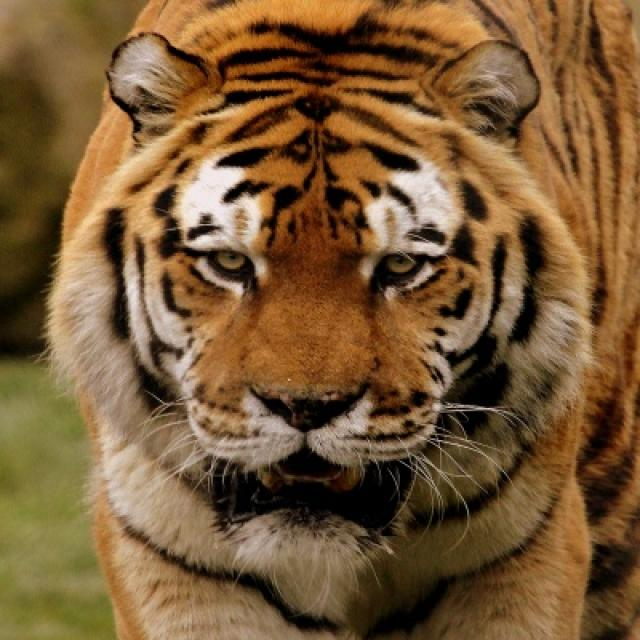Tiger: (35, 27, 590, 621)
